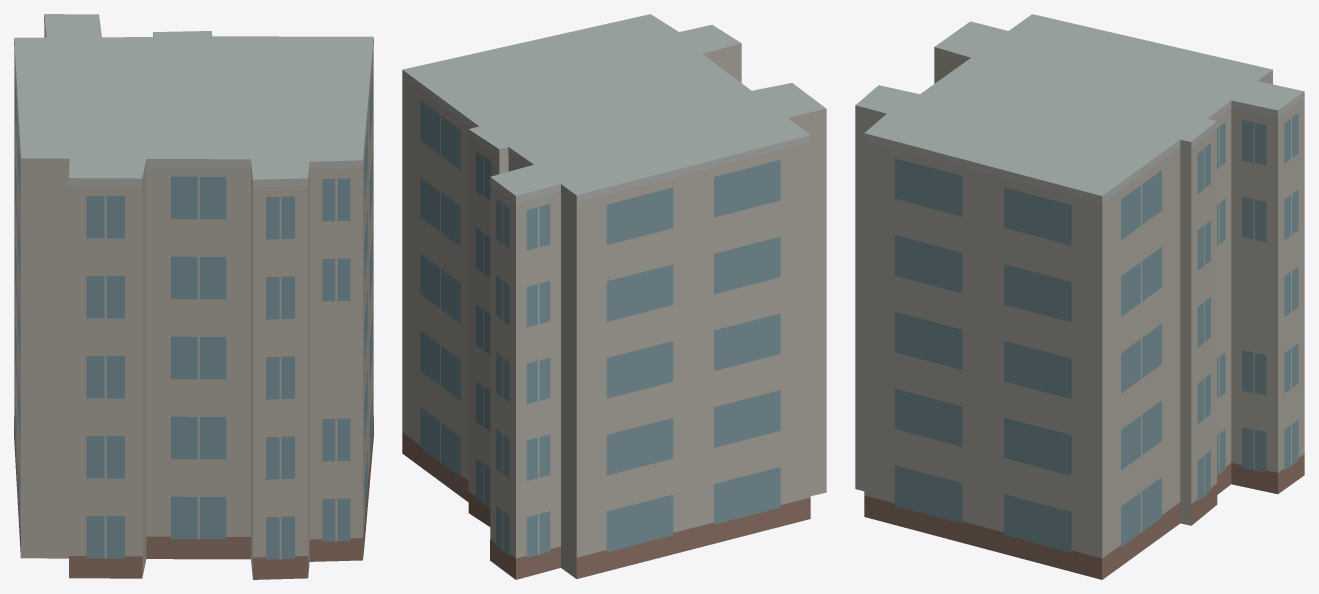
The model's file is survey-upis-33038371.glb.
3 views of the same model, side by side, from view 1: azimuth 30°, elevation 25°; view 2: azimuth 150°, elevation 25°; view 3: azimuth 270°, elevation 25° (orthographic). The views are drawn at different scales.
Parts seen in each view (by area): view 1: survey-upis-33038371.tmp; view 2: survey-upis-33038371.tmp; view 3: survey-upis-33038371.tmp.
Boxes of the visible parts, x1,y1,x2,y2 form: survey-upis-33038371.tmp: (14, 14, 373, 579); survey-upis-33038371.tmp: (402, 14, 826, 579); survey-upis-33038371.tmp: (855, 14, 1304, 579).
Size of the model in its own units: 13.24 by 13 by 13.81.
